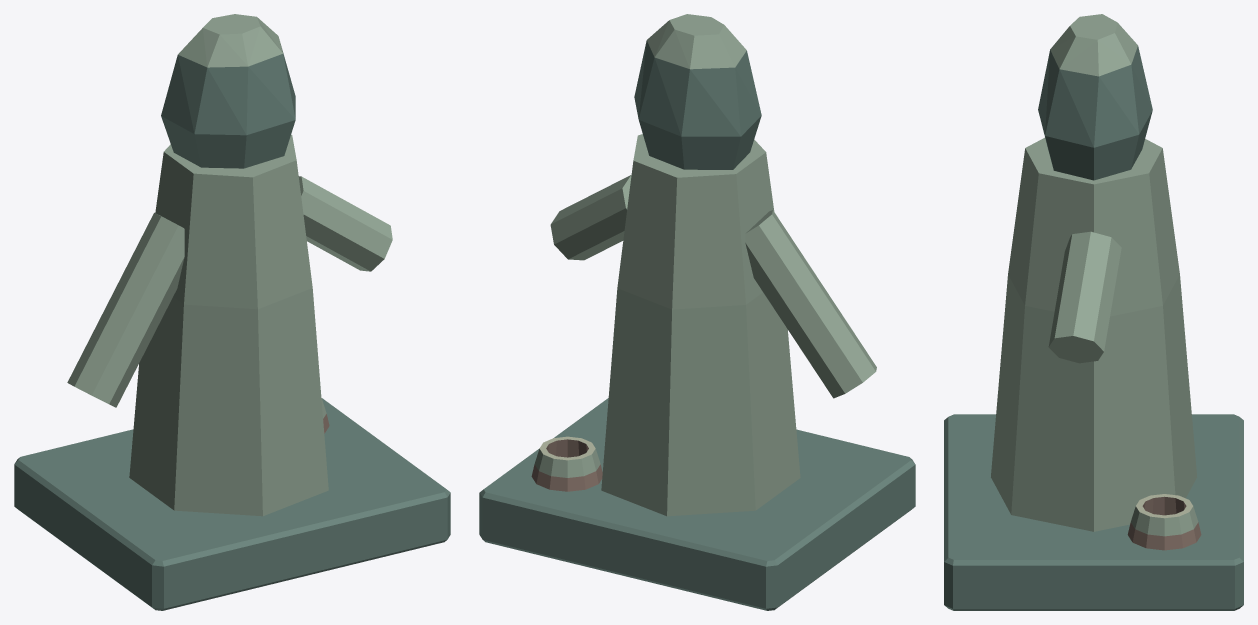
Rendered from sunken-statue.glb.
3 renders of one model, left to right at view 1: azimuth 30°, elevation 25°; view 2: azimuth 150°, elevation 25°; view 3: azimuth 270°, elevation 25°, orthographic. The views are drawn at different scales.
Visible parts, largest first — view 1: sunken-statue__body; view 2: sunken-statue__body; view 3: sunken-statue__body.
Part boxes in pixels (left/top/right/bottom): sunken-statue__body: left=14, top=14, right=450, bottom=610; sunken-statue__body: left=479, top=14, right=915, bottom=610; sunken-statue__body: left=944, top=14, right=1243, bottom=610.
Bounding box in the file's own units: 1.06 × 1.6 × 0.85.
